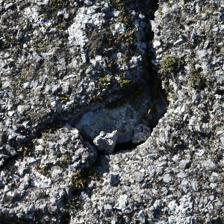Crack: (0, 0, 98, 126), (78, 0, 147, 132), (157, 30, 220, 133)
